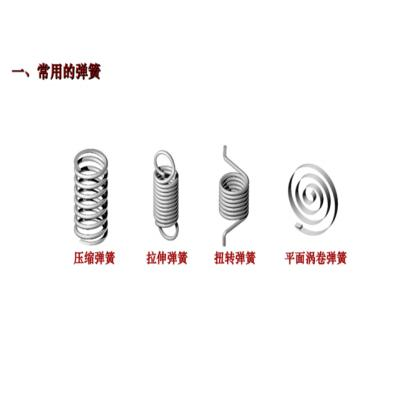FOD: (212, 141, 254, 248), (69, 146, 111, 248), (286, 160, 339, 240), (148, 148, 188, 246)
